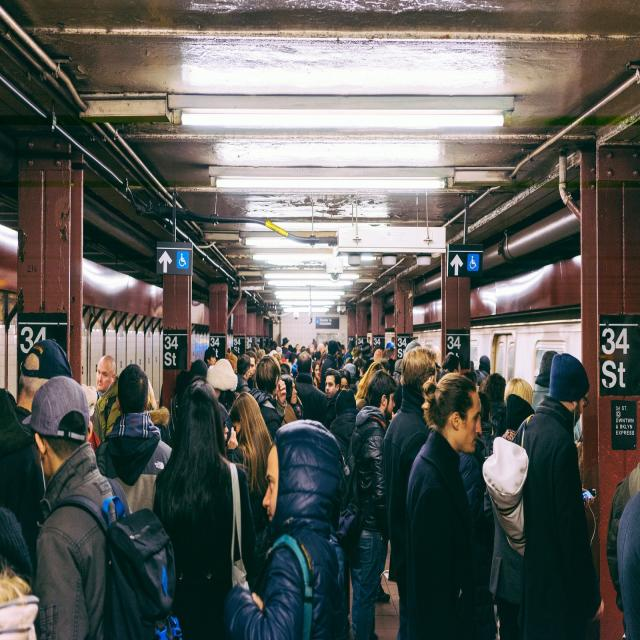body: (115, 331, 532, 462), (21, 372, 184, 640), (480, 350, 610, 640), (218, 413, 353, 639), (152, 381, 260, 634), (404, 371, 486, 640), (0, 336, 73, 578), (381, 347, 439, 639), (344, 369, 399, 639), (94, 366, 174, 519), (488, 391, 535, 640), (0, 392, 44, 640), (110, 364, 174, 517), (225, 390, 273, 564), (610, 446, 640, 639), (530, 348, 586, 450), (248, 354, 288, 442), (88, 355, 125, 450), (292, 349, 328, 422), (327, 386, 361, 463), (81, 383, 100, 453), (280, 373, 304, 425), (324, 367, 342, 430)
